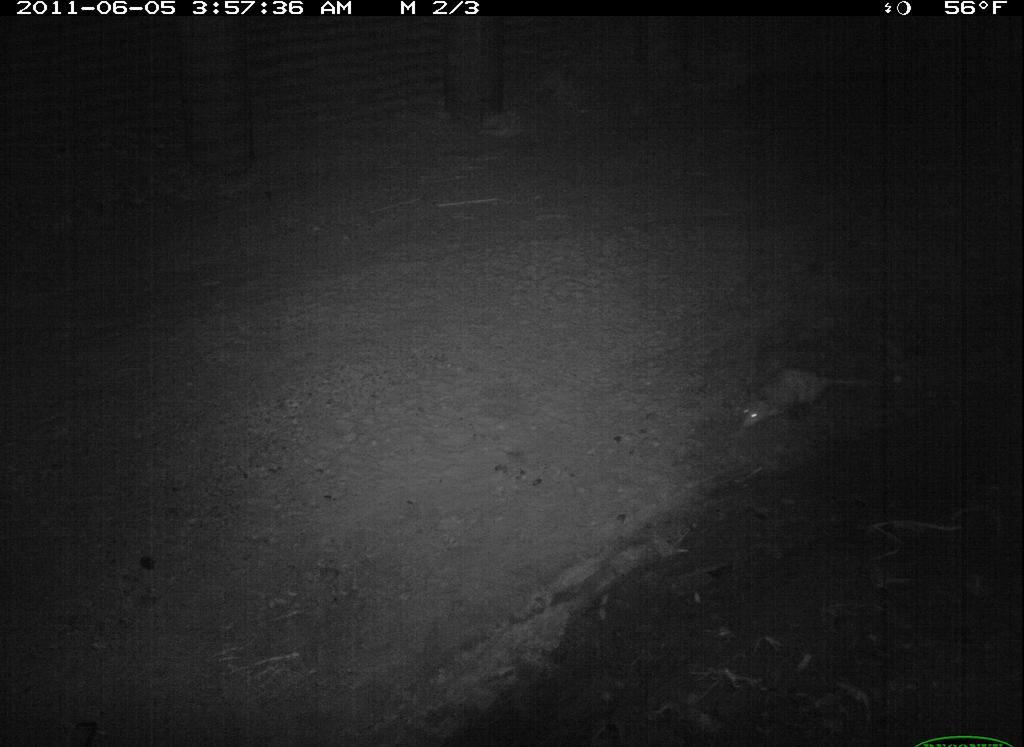opossum: (721, 358, 867, 437)
